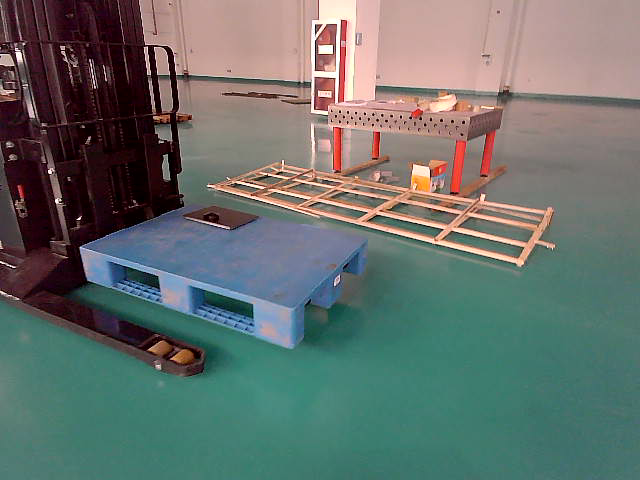block: (255, 298, 304, 350), (328, 263, 344, 308), (358, 238, 368, 276)
front: (291, 237, 369, 351)
hole pallet: (304, 279, 330, 338), (343, 253, 359, 292)
